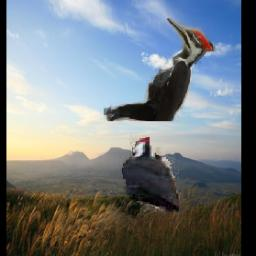Woodpecker: (105, 18, 219, 121), (102, 136, 180, 213)
